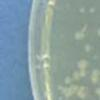white: (72, 70, 82, 82), (88, 74, 98, 84), (64, 75, 74, 85), (79, 58, 88, 68), (79, 67, 87, 78), (79, 84, 89, 92), (84, 43, 91, 53), (74, 31, 80, 42), (79, 91, 86, 100), (78, 31, 84, 41), (67, 88, 73, 98), (71, 85, 77, 95), (74, 82, 80, 92), (95, 85, 100, 97), (80, 26, 87, 34), (91, 68, 98, 76), (56, 84, 63, 92), (60, 87, 68, 94), (92, 53, 98, 62), (88, 7, 95, 14), (90, 44, 96, 52), (96, 69, 100, 81), (63, 92, 69, 100), (83, 22, 89, 29), (79, 7, 85, 14), (76, 90, 82, 97), (97, 28, 100, 38), (92, 62, 98, 67)
